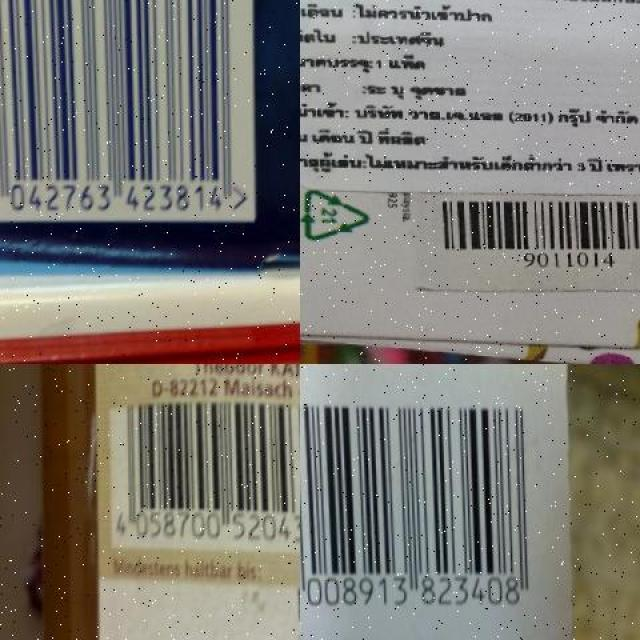Barcode: (300, 372, 543, 624), (0, 0, 259, 227), (107, 392, 300, 552), (421, 188, 640, 269)
